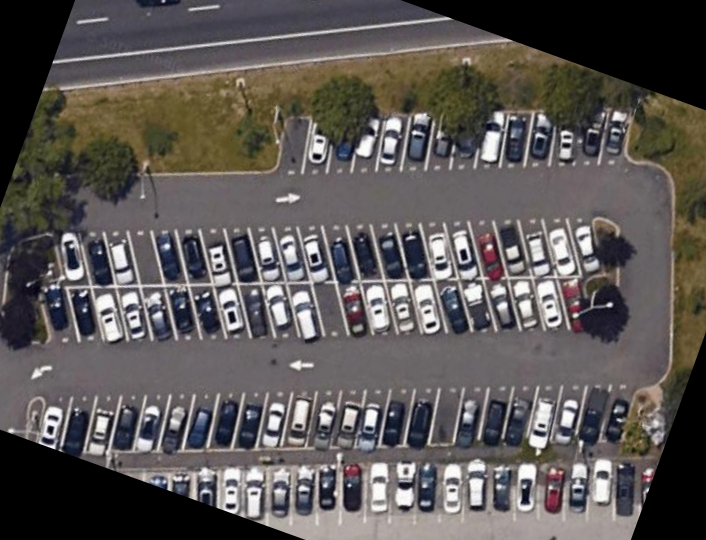parkingspot: (36, 212, 609, 348), (36, 381, 645, 458), (111, 456, 661, 529), (271, 104, 639, 178)
